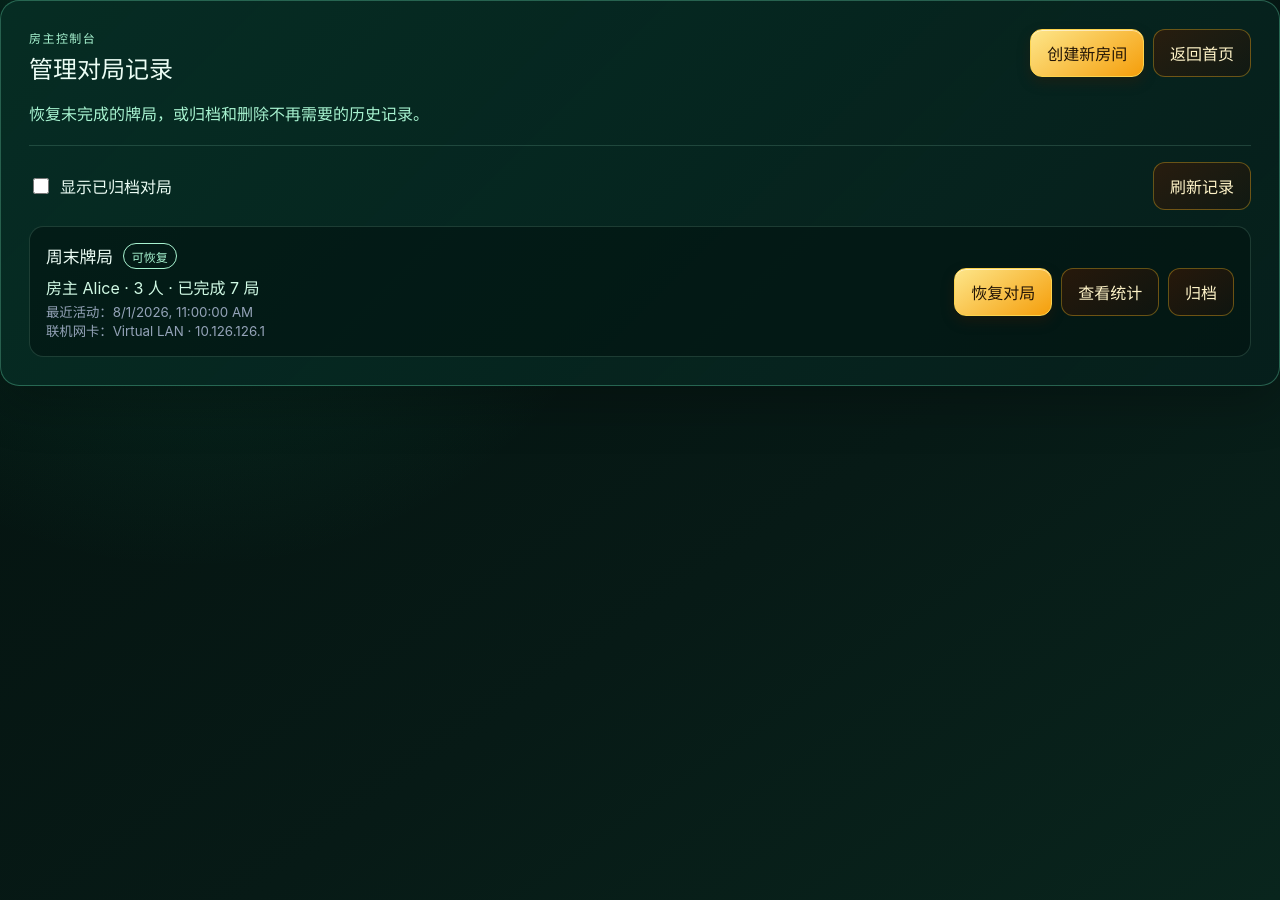
Test: RoomRecordManager › opens the same statistics report in a modal from every record row
This screenshot has width=1280, height=900.
Click the button "查看统计" at [1110, 292], box [1061,268,1159,316]
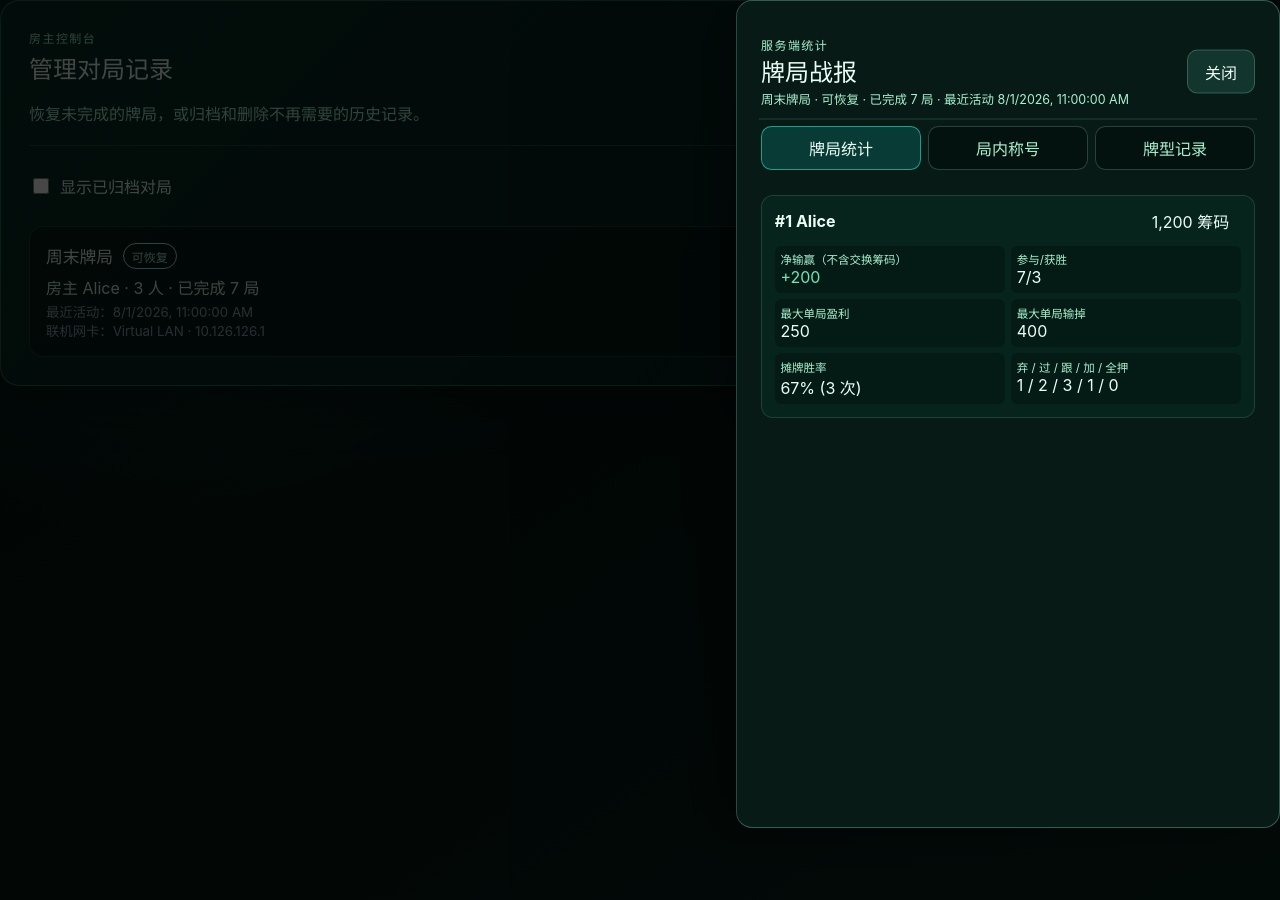
Expected: the text "周末牌局" is shown, [46,244,113,268]
Result: the heading "牌局战报" is shown at [761,57,857,86]
